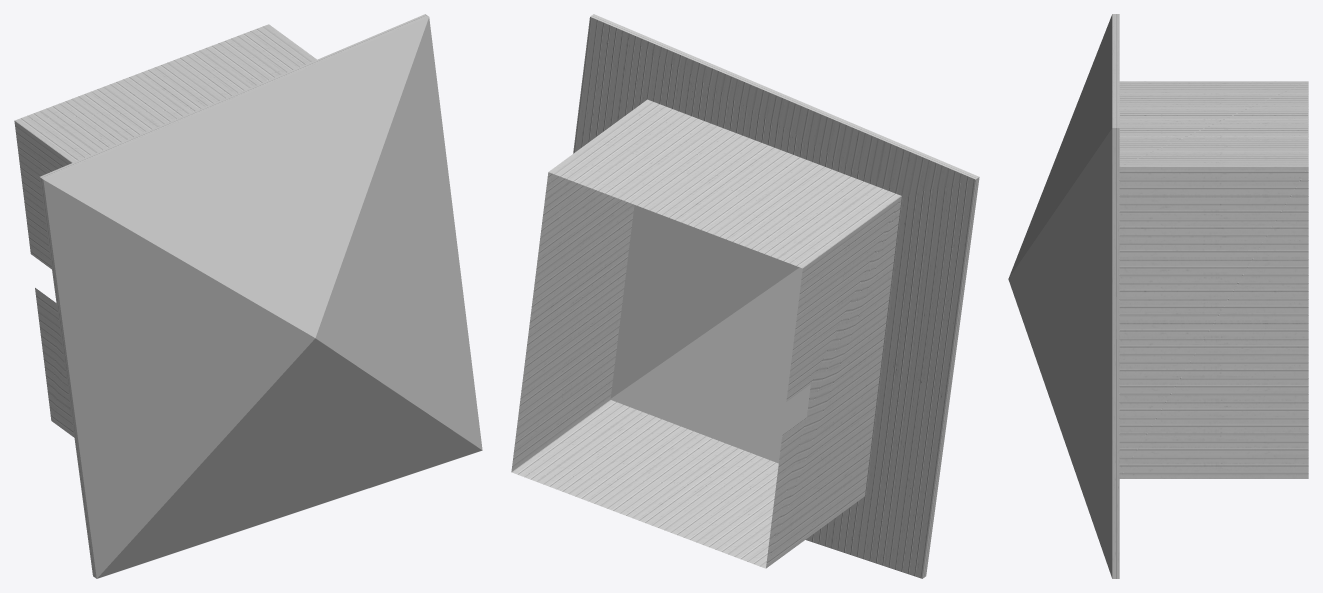
The model's file is Harju_6_2-origo.obj.
The picture shows the model from 3 angles, left to right: view 1: azimuth 30°, elevation 25°; view 2: azimuth 150°, elevation 25°; view 3: azimuth 270°, elevation 25°; orthographic projection. The views are drawn at different scales.
Parts seen in each view (by area): view 1: Harju_6_2; view 2: Harju_6_2; view 3: Harju_6_2.
Boxes of the visible parts, bbox=[...] form: Harju_6_2: bbox=[14, 14, 482, 578]; Harju_6_2: bbox=[511, 14, 979, 578]; Harju_6_2: bbox=[1008, 14, 1308, 578].
Bounding box in the file's own units: 6.69 × 7 × 4.15.
